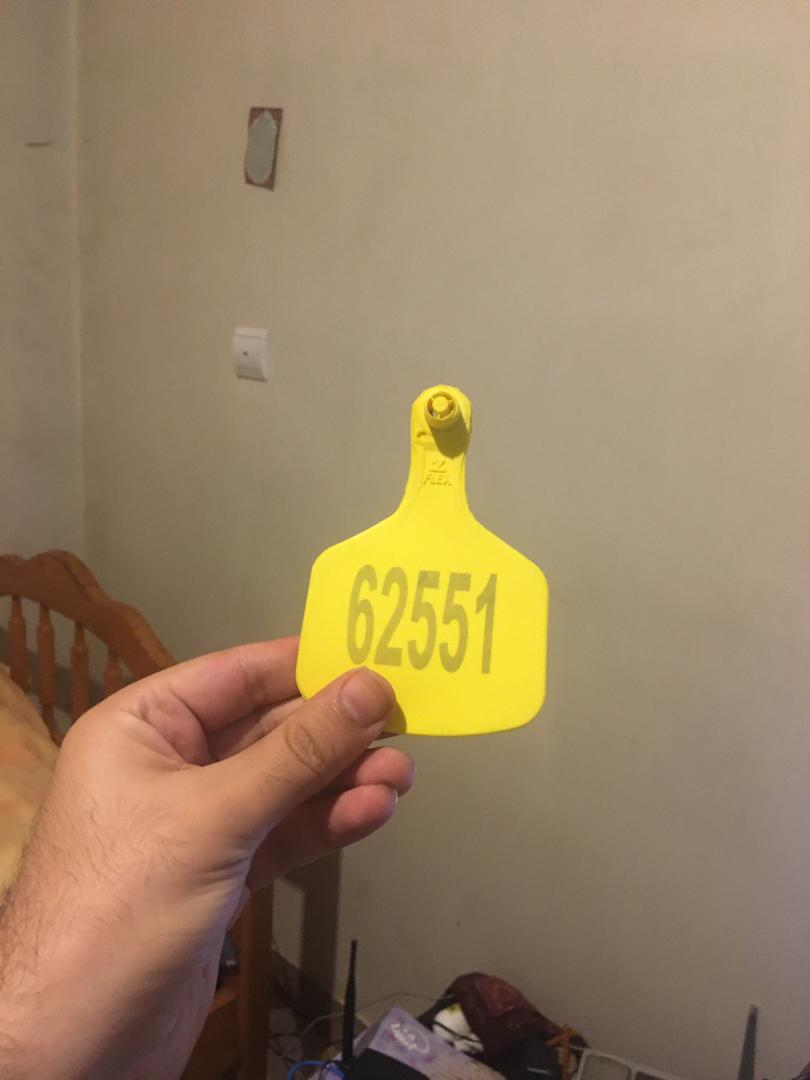digit: (345, 557, 501, 677)
